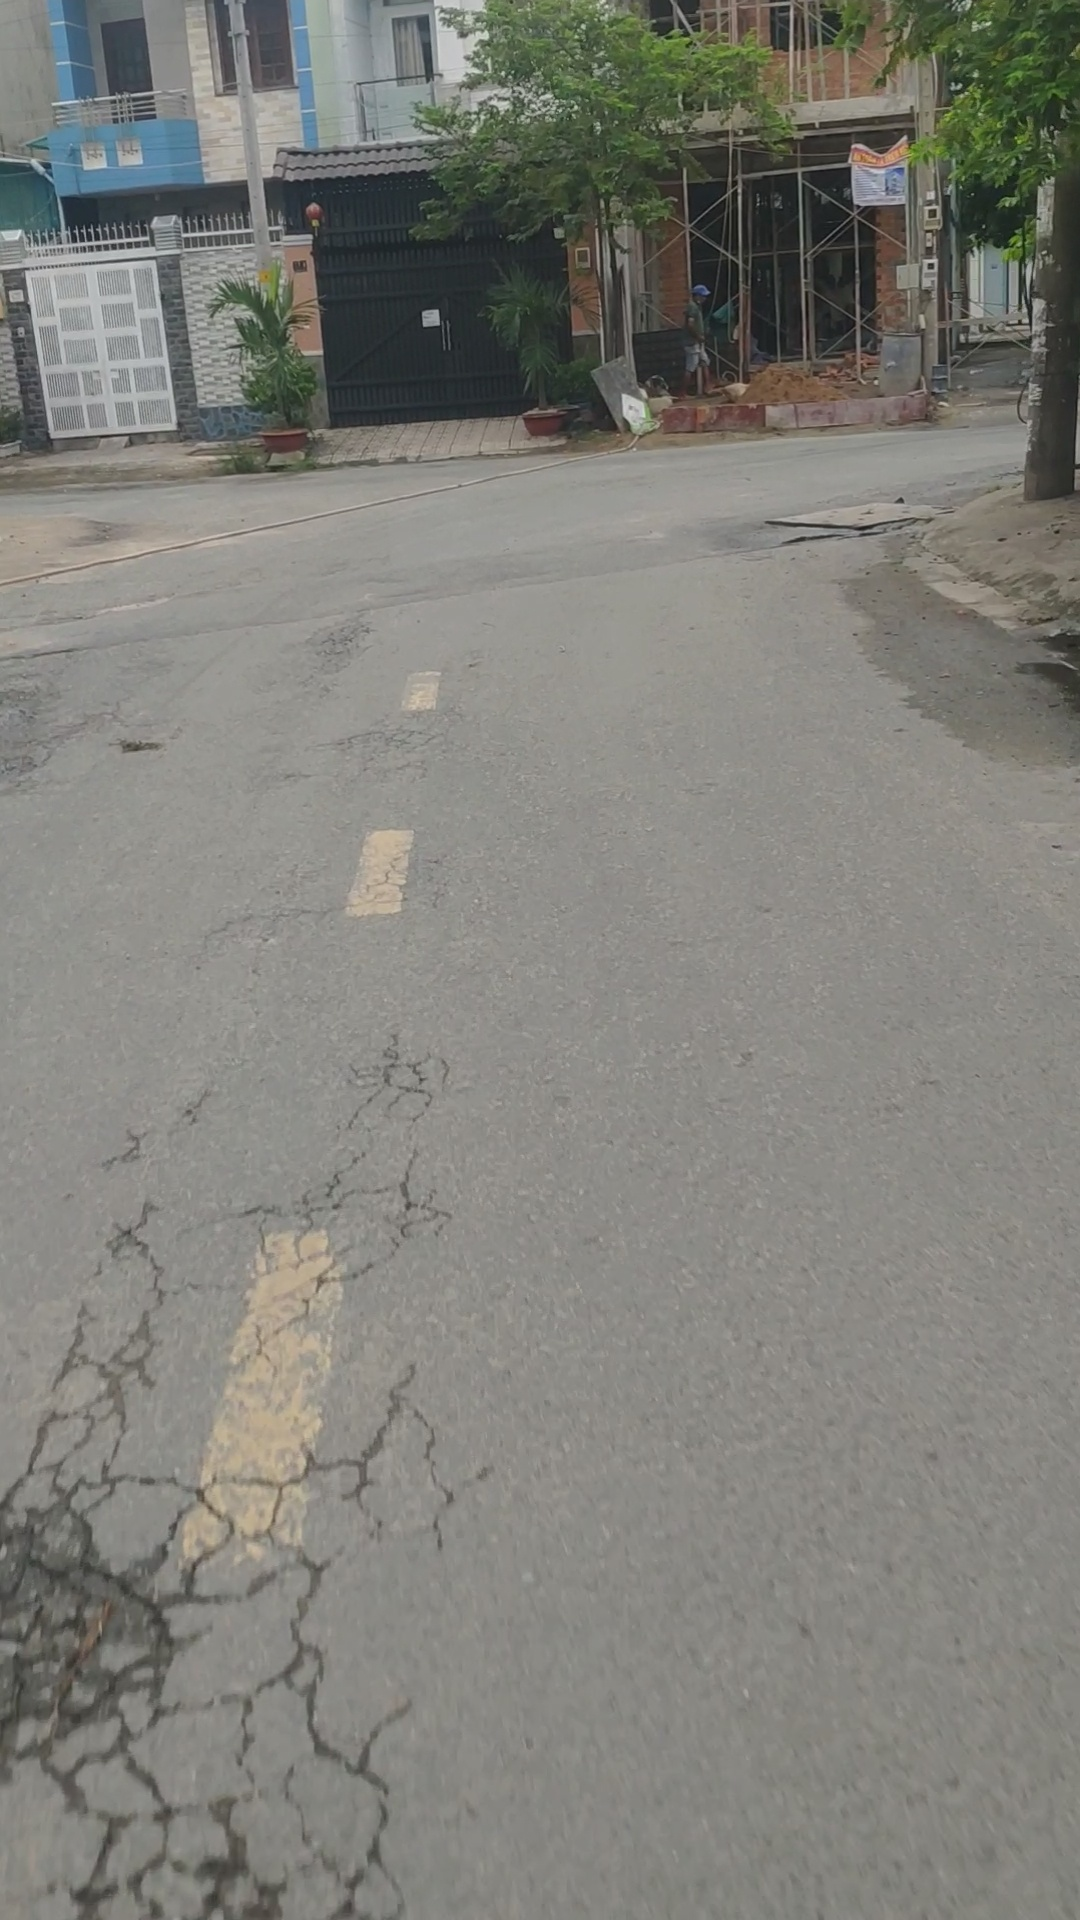hole: (760, 527, 889, 549)
